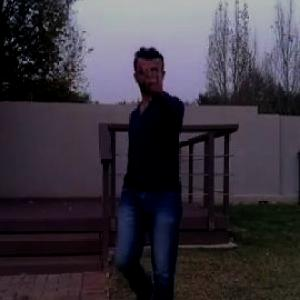takeoff-hand: (134, 50, 169, 94)
